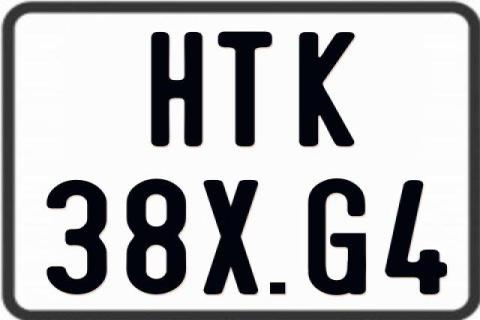0: (44, 180, 109, 298), (125, 178, 188, 298), (384, 179, 446, 296)
G: (305, 178, 365, 296)
H: (151, 30, 204, 148)
K: (297, 30, 354, 148)
T: (215, 32, 275, 150)
X: (201, 180, 256, 298)
